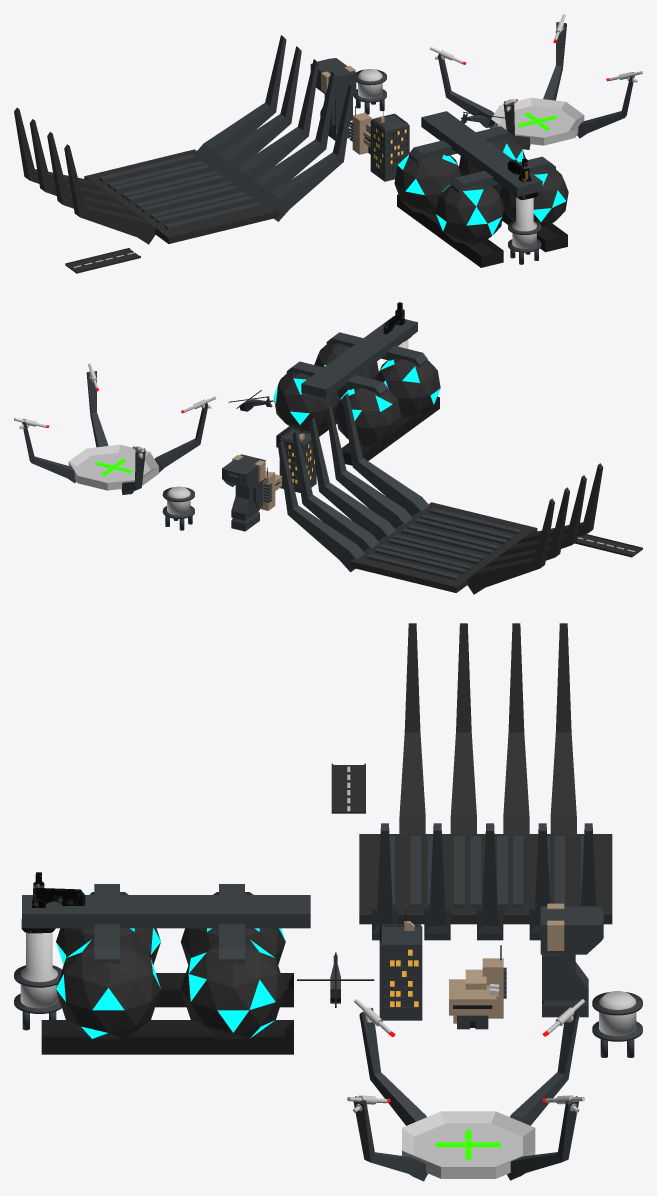
The model's file is plz work.fbx.
The picture shows the model from 3 angles, top to bottom: view 1: azimuth 30°, elevation 25°; view 2: azimuth 150°, elevation 25°; view 3: azimuth 270°, elevation 25°; orthographic projection. The views are drawn at different scales.
Visible parts, largest first — view 1: Big Blue Ballz Energy, Cube.002, Entrapment device, Healing Device, Cube.025, Building A, Building C, Building D, Cube.007, Building B; view 2: Big Blue Ballz Energy, Cube.002, Entrapment device, Healing Device, Cube.025, Building C, Building A, Building D, Cube.007, Building B; view 3: Big Blue Ballz Energy, Entrapment device, Healing Device, Cube.025, Cube.002, Building C, Building A, Building B, Building D, Cube.007.
Boxes of the visible parts, x1,y1,x2,y2 form: Big Blue Ballz Energy: (394, 111, 568, 267); Cube.002: (196, 35, 354, 221); Entrapment device: (84, 149, 278, 243); Healing Device: (430, 14, 642, 149); Cube.025: (14, 107, 155, 244); Building A: (370, 105, 409, 181); Building C: (310, 58, 356, 140); Building D: (353, 69, 386, 114); Cube.007: (65, 248, 140, 273); Building B: (349, 106, 371, 154); Big Blue Ballz Energy: (273, 302, 440, 465); Cube.002: (277, 393, 429, 572); Entrapment device: (350, 502, 537, 592); Healing Device: (14, 363, 216, 494); Cube.025: (467, 463, 603, 594); Building C: (222, 454, 265, 531); Building A: (279, 422, 316, 492); Building D: (162, 486, 194, 530); Cube.007: (574, 534, 642, 557); Building B: (260, 467, 281, 510); Big Blue Ballz Energy: (14, 872, 310, 1054); Entrapment device: (359, 834, 612, 924); Healing Device: (347, 999, 584, 1181); Cube.025: (399, 623, 576, 833); Cube.002: (372, 823, 596, 940); Building C: (540, 903, 603, 1017); Building A: (379, 905, 422, 1020); Building B: (449, 945, 506, 1029); Building D: (592, 991, 642, 1057); Cube.007: (331, 763, 365, 813).
Size of the model in its own units: 151 by 29.91 by 95.73.
Materials: 10 (1 with a texture image).
